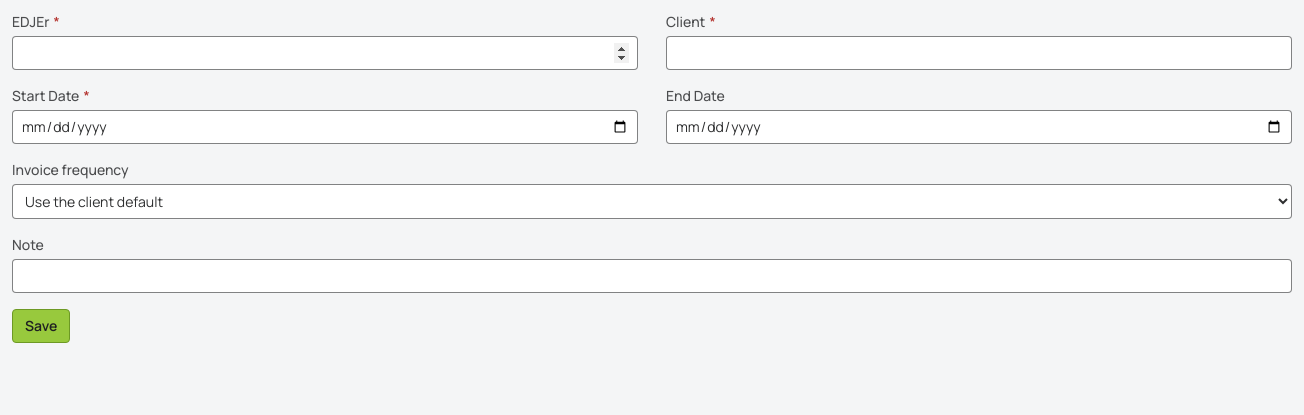
Test: AssignmentForm › shows the FR-008 rejection when the end date precedes the start date
In the number field labelled "EDJEr*": (325,53) 12,36 -> 638,70, type "10"
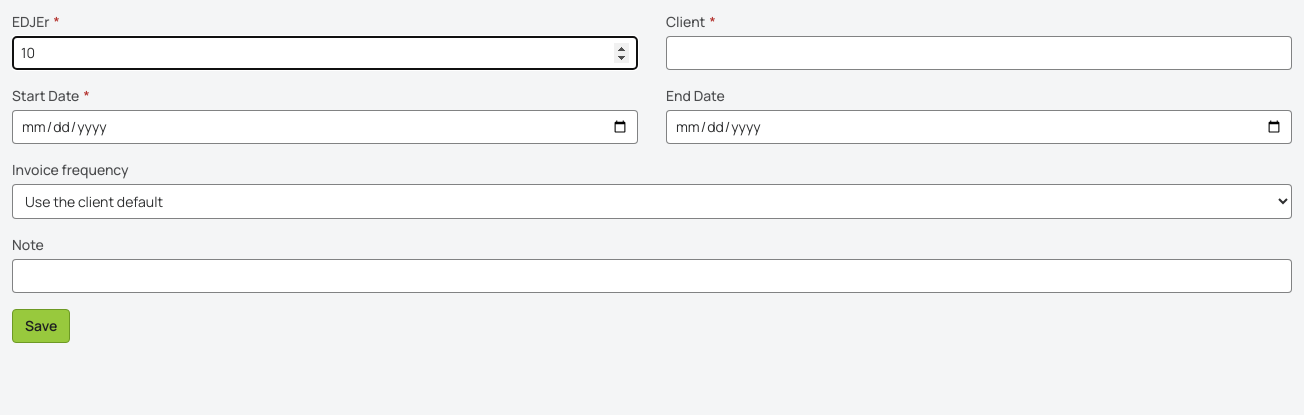
In the number field labelled "Client*": (979,53) 666,36 -> 1292,70, type "100"
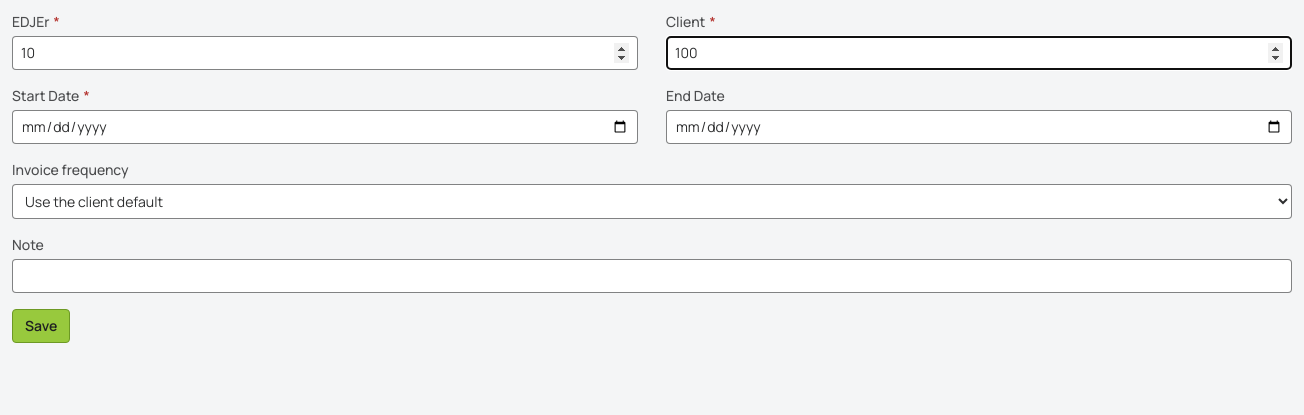
In the date field labelled "Start Date*": (325,127) 12,110 -> 638,144, type "2026-06-01"
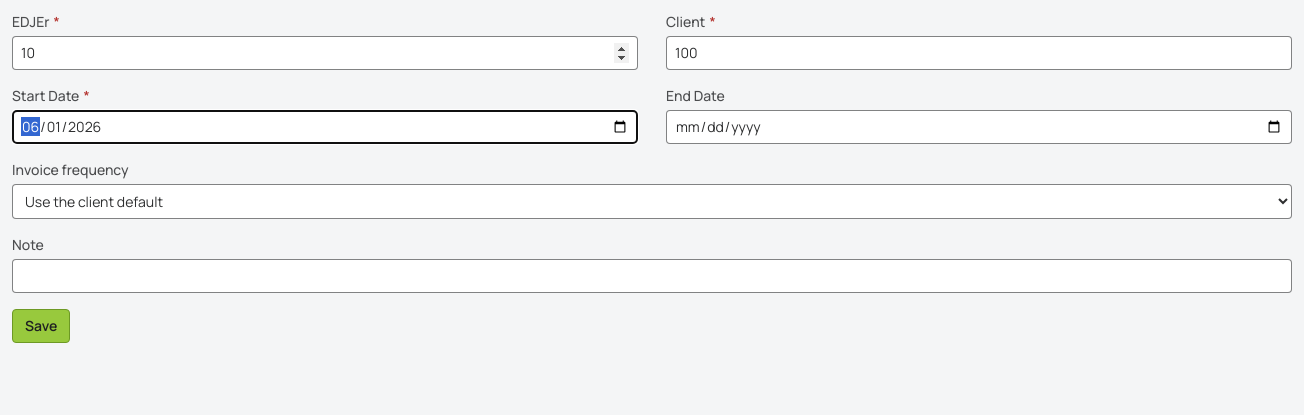
In the date field labelled "End Date": (979,127) 666,110 -> 1292,144, type "2026-01-01"
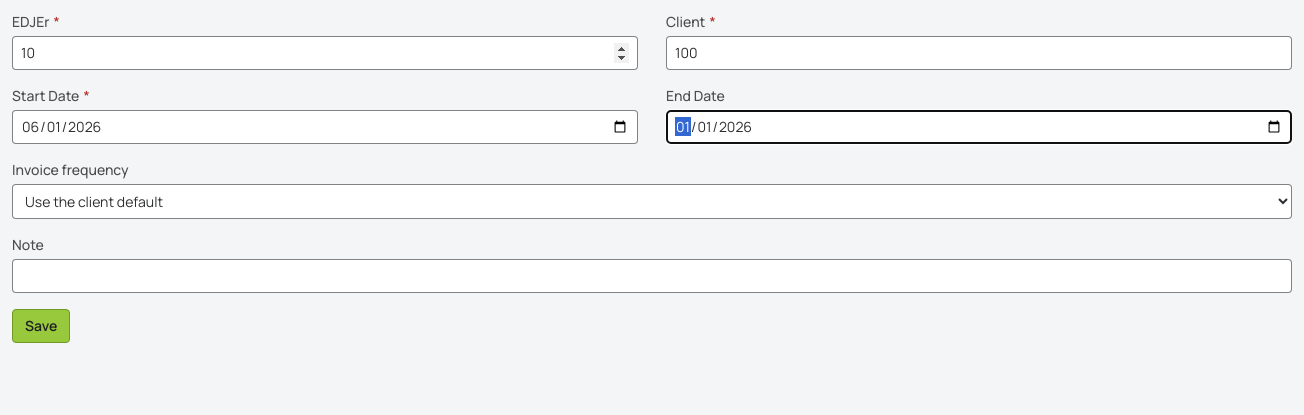
Click the button "Save": (41,326) 12,309 -> 70,343
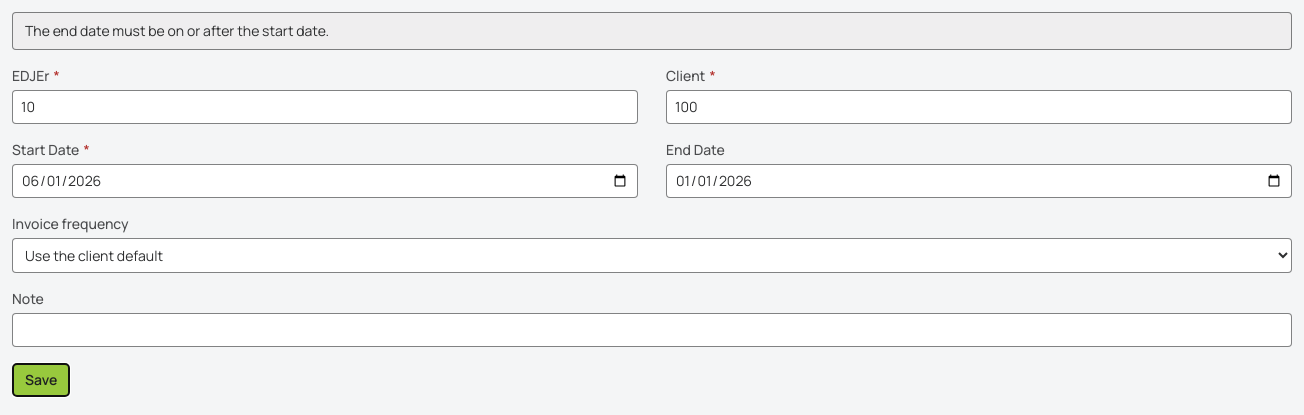
Expected: the message reads "The end date must be on or after the start date.", 25,21 -> 329,40
